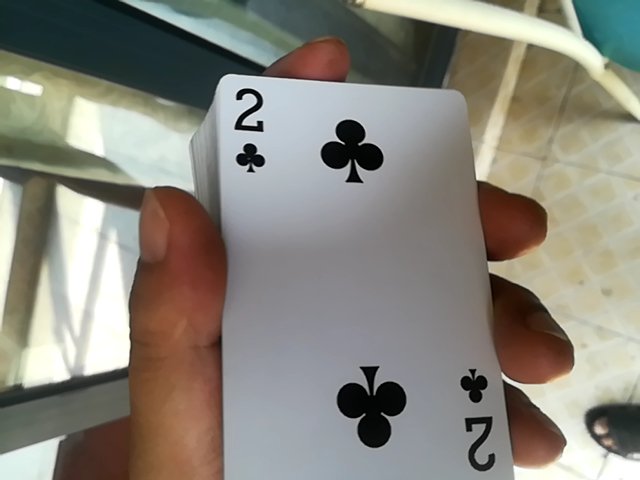mh 2: (189, 58, 512, 472)
